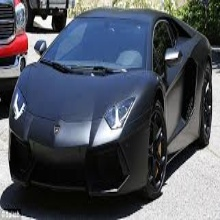no damage: (8, 8, 213, 202), (1, 1, 28, 82)
